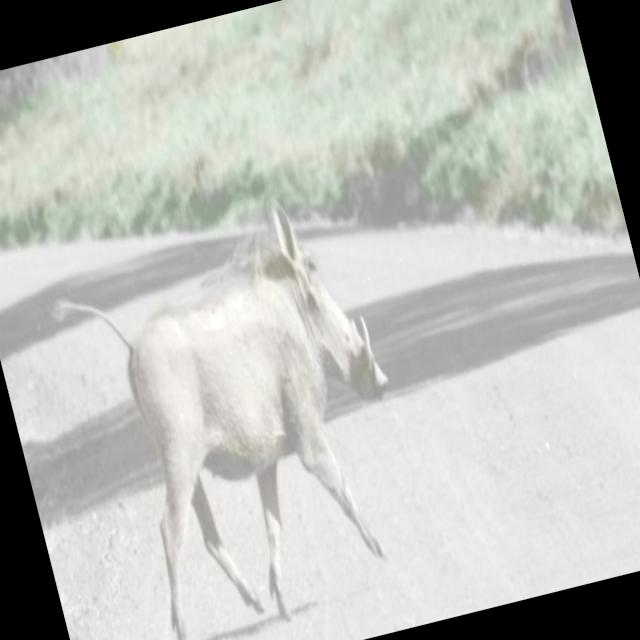pig: (55, 208, 386, 640)
